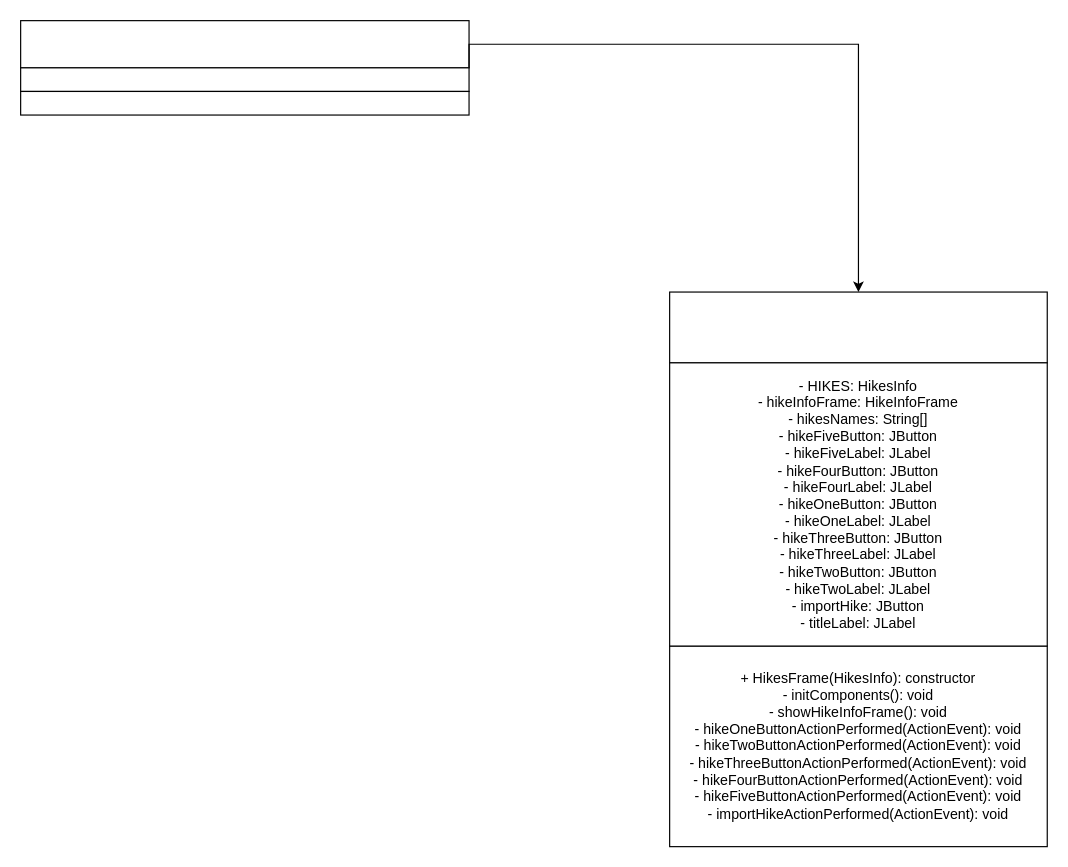
This 1068x867 diagram has some shape labels left out. The shapes that lost their labels are listed below. From the top down, each one's centre as x and y in pixels, then its label:
At [244,43]: "javax.swing.JFrame".
At [857,327]: "HikesFrame".
